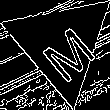M_NW: (29, 10, 94, 79)
